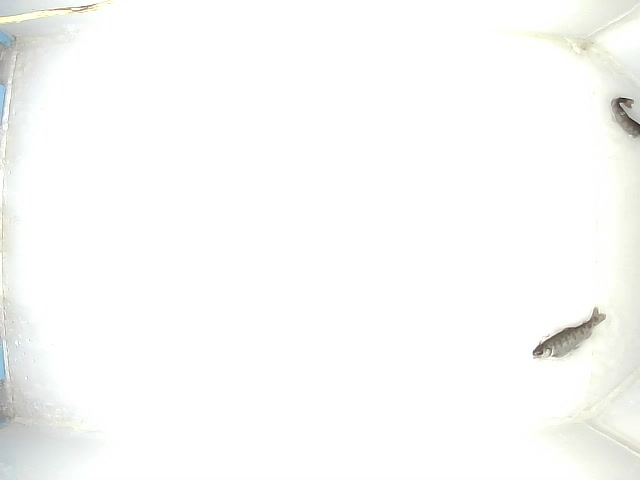fish: (529, 304, 609, 359)
